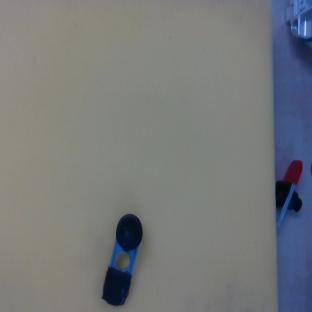part_1_bad: (99, 212, 147, 307)
part_1_good: (274, 159, 302, 229)
